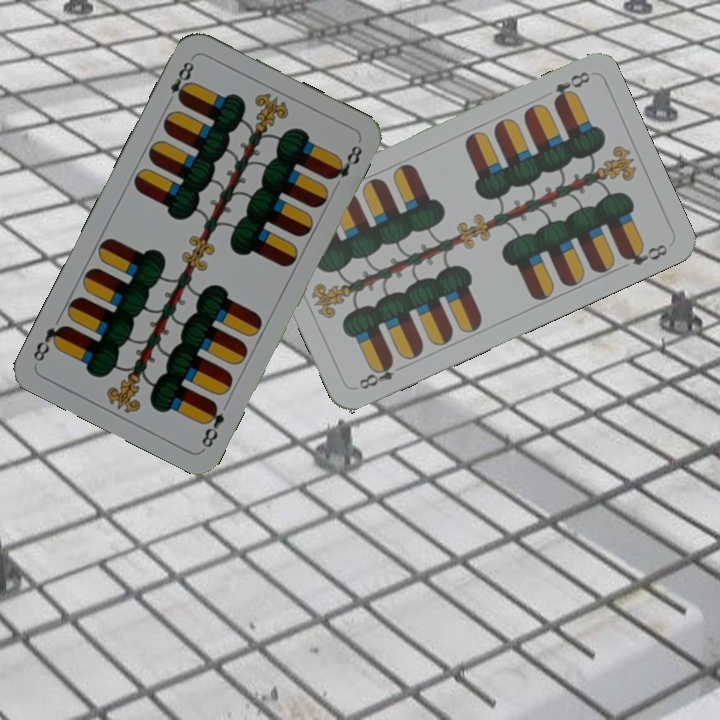E8: (355, 356, 408, 393), (163, 53, 197, 108), (549, 67, 593, 107), (197, 398, 227, 451)
